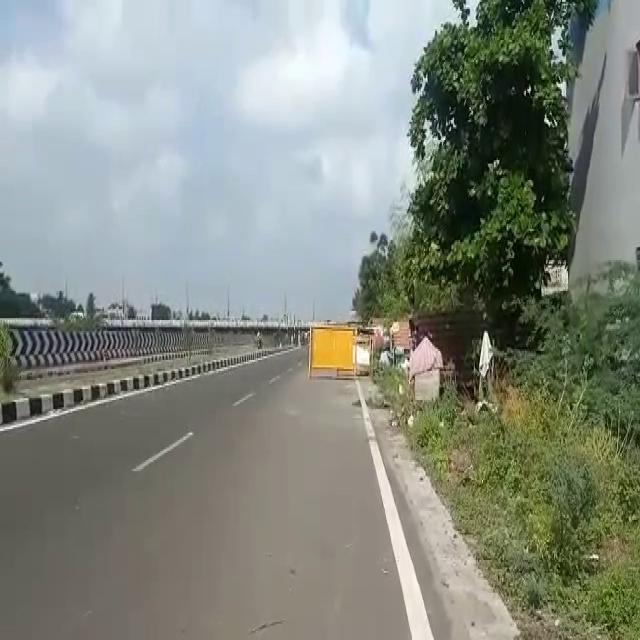fallen_object: (289, 303, 373, 400)
